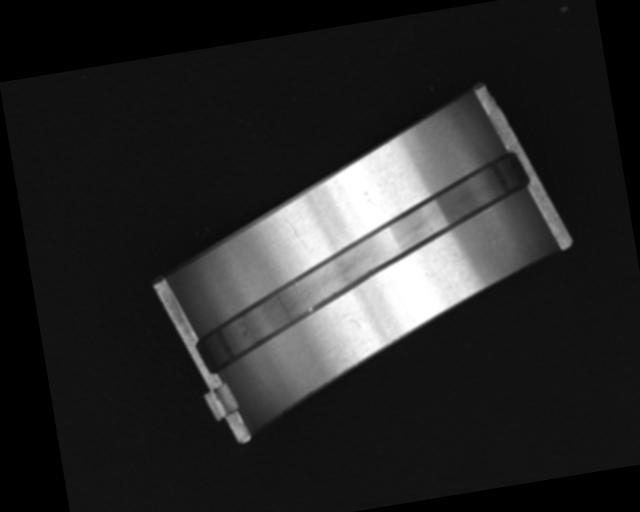gap: (173, 150, 552, 374)
nick: (283, 214, 307, 250)
